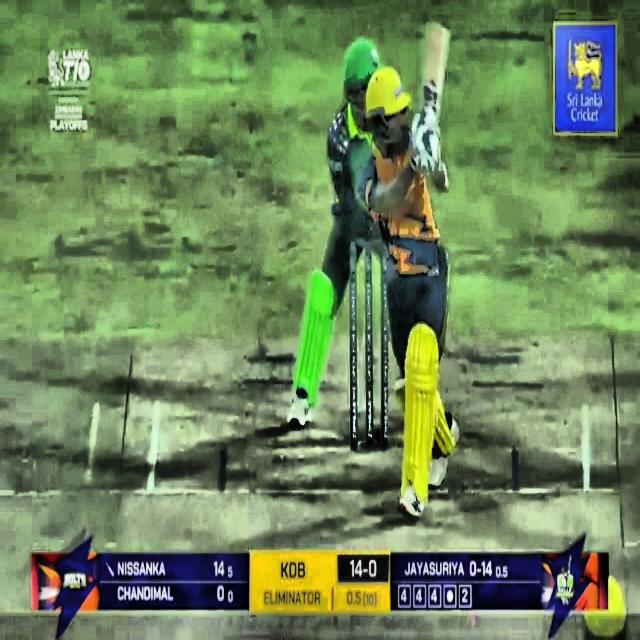Left-stump: (349, 240, 357, 450)
Middle-stump: (367, 246, 372, 452)
Right-stump: (383, 267, 388, 452)
